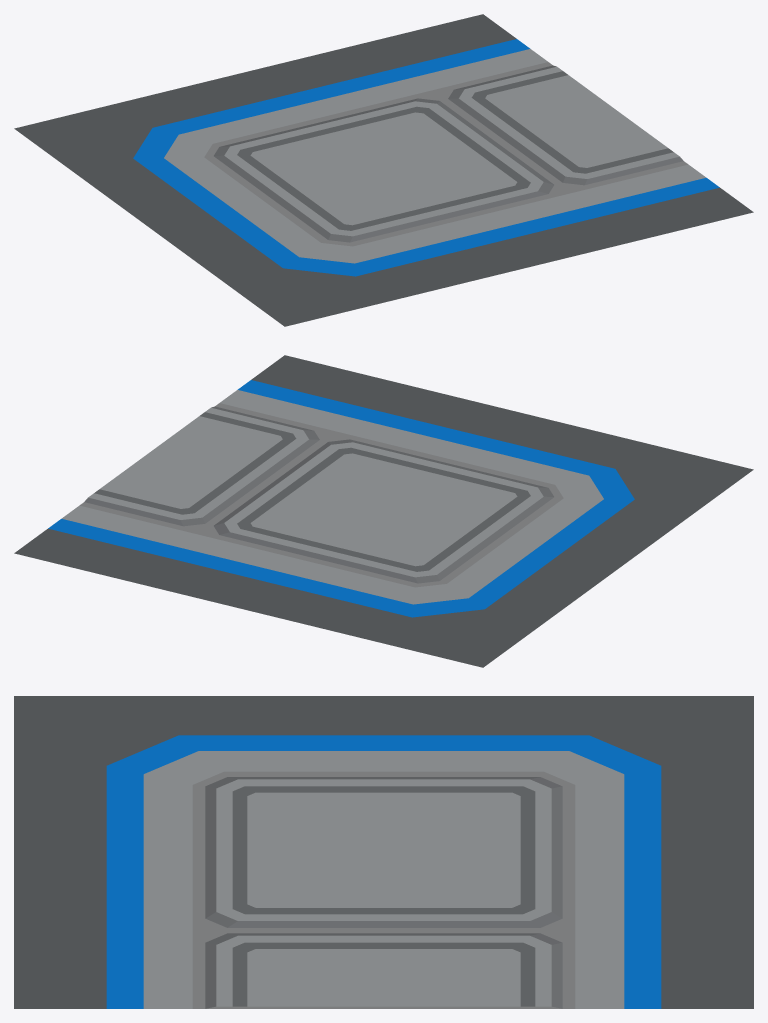
The model's file is Floor_type_B_027.glb.
3 renders of one model, top to bottom at view 1: azimuth 30°, elevation 25°; view 2: azimuth 150°, elevation 25°; view 3: azimuth 270°, elevation 25°, orthographic. The views are drawn at different scales.
Parts seen in each view (by area): view 1: Floor_type_B_027; view 2: Floor_type_B_027; view 3: Floor_type_B_027.
Boxes of the visible parts, x1,y1,x2,y2 form: Floor_type_B_027: (14,14,753,326); Floor_type_B_027: (14,355,753,667); Floor_type_B_027: (14,696,753,1008).
Size of the model in its own units: 4 by 0.0134 by 4.
Materials: 2 (2 with a texture image).
